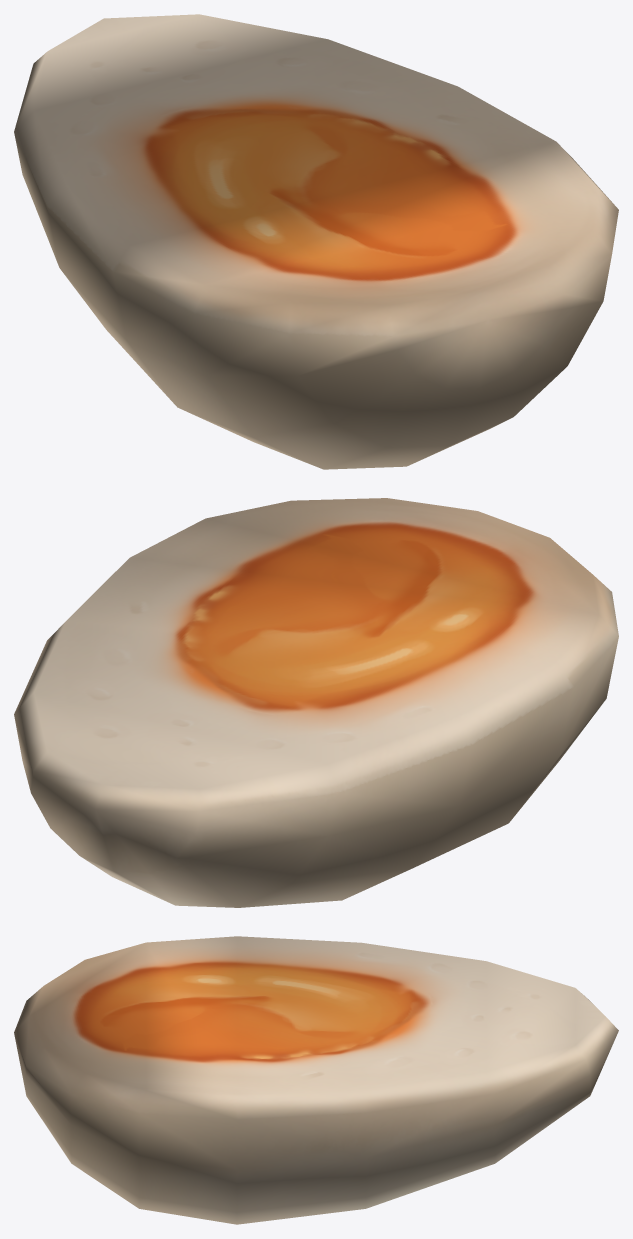
File: ramenEggHalf.fbx
3 views of the same model, one above another, from view 1: azimuth 30°, elevation 25°; view 2: azimuth 150°, elevation 25°; view 3: azimuth 270°, elevation 25° (orthographic). The views are drawn at different scales.
Visible parts, largest first — view 1: ramenEggHalf; view 2: ramenEggHalf; view 3: ramenEggHalf.
Part boxes in pixels (<box>): ramenEggHalf: <box>14,14,618,469</box>; ramenEggHalf: <box>14,498,618,907</box>; ramenEggHalf: <box>14,936,618,1224</box>.
Size of the model in its own units: 7.33 by 3.73 by 10.83.
